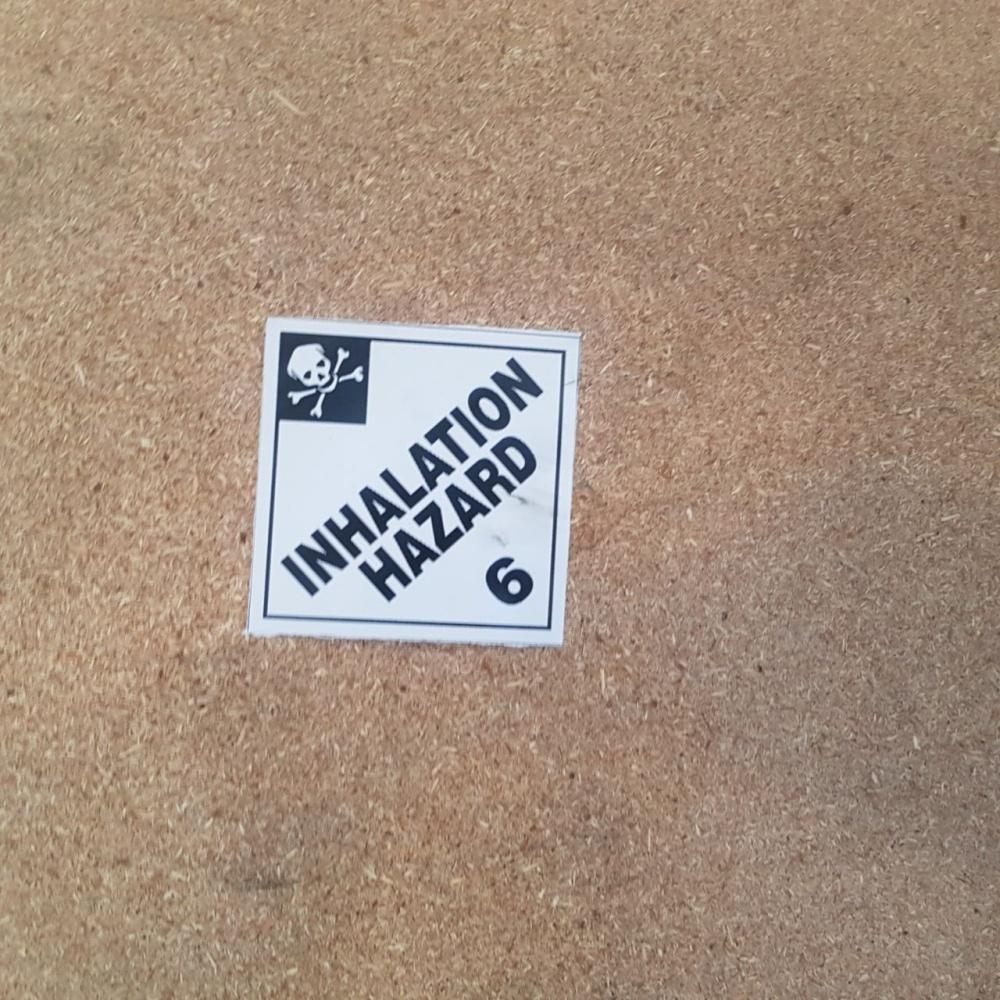poison: (245, 306, 600, 657)
